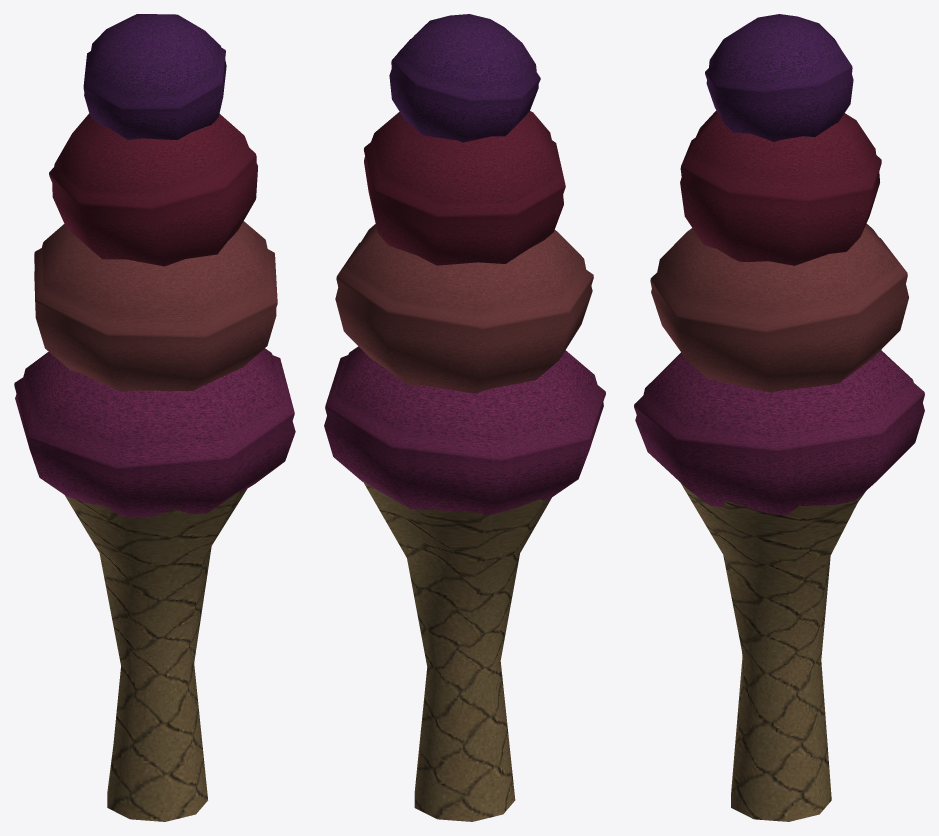
Rendered from hillTree2.obj.
The picture shows the model from 3 angles, left to right: view 1: azimuth 30°, elevation 25°; view 2: azimuth 150°, elevation 25°; view 3: azimuth 270°, elevation 25°; orthographic projection.
Parts seen in each view (by area): view 1: Sphere, Sphere.001, wood_Cylinder, Sphere.002, Sphere.003; view 2: Sphere, wood_Cylinder, Sphere.001, Sphere.002, Sphere.003; view 3: Sphere, wood_Cylinder, Sphere.001, Sphere.002, Sphere.003.
Part boxes in pixels (left/top/right/bottom): Sphere: left=14, top=348, right=295, bottom=518; Sphere.001: left=34, top=221, right=277, bottom=391; wood_Cylinder: left=65, top=489, right=246, bottom=821; Sphere.002: left=49, top=113, right=257, bottom=266; Sphere.003: left=83, top=14, right=226, bottom=140; Sphere: left=324, top=346, right=605, bottom=515; wood_Cylinder: left=362, top=480, right=551, bottom=821; Sphere.001: left=335, top=224, right=593, bottom=393; Sphere.002: left=364, top=111, right=565, bottom=265; Sphere.003: left=389, top=14, right=540, bottom=142; Sphere: left=634, top=350, right=924, bottom=515; wood_Cylinder: left=681, top=483, right=865, bottom=821; Sphere.001: left=650, top=223, right=908, bottom=392; Sphere.002: left=680, top=110, right=881, bottom=265; Sphere.003: left=705, top=14, right=853, bottom=141.
Bounding box in the file's own units: 1.08 × 3.2 × 1.09.
Materials: 5 (5 with a texture image).
